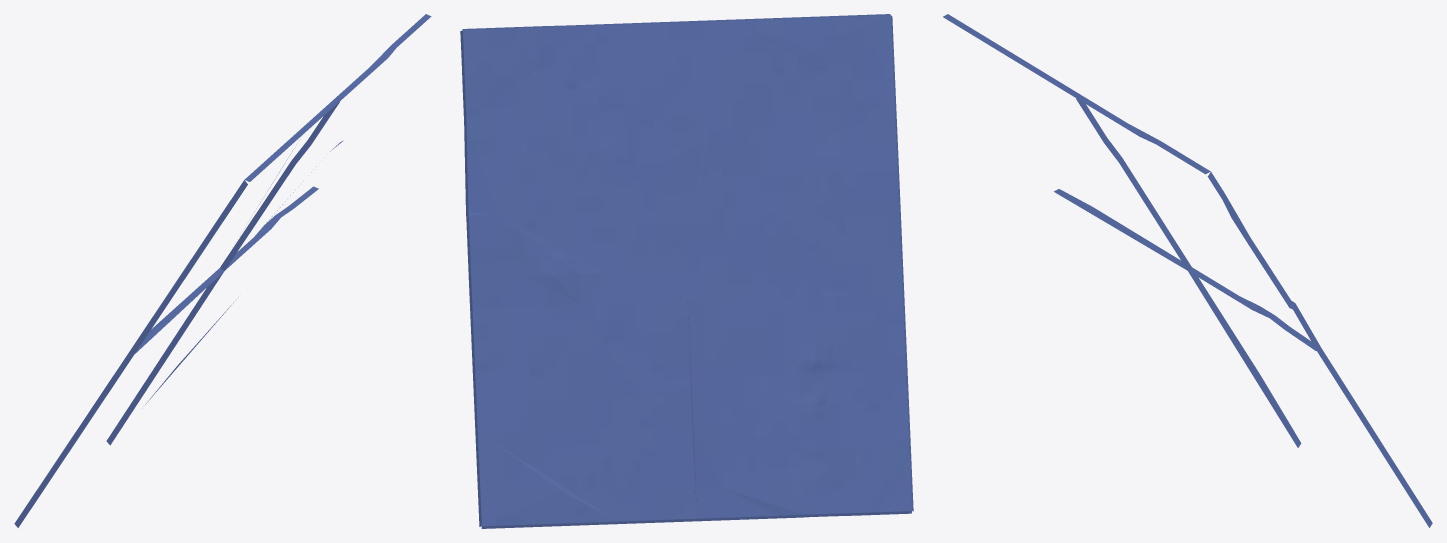
3 renders of one model, left to right at view 1: azimuth 30°, elevation 25°; view 2: azimuth 150°, elevation 25°; view 3: azimuth 270°, elevation 25°, orthographic. The views are drawn at different scales.
Size of the model in its own units: 78731 by 68322 by 72273.
Materials: 1 (1 with a texture image).
